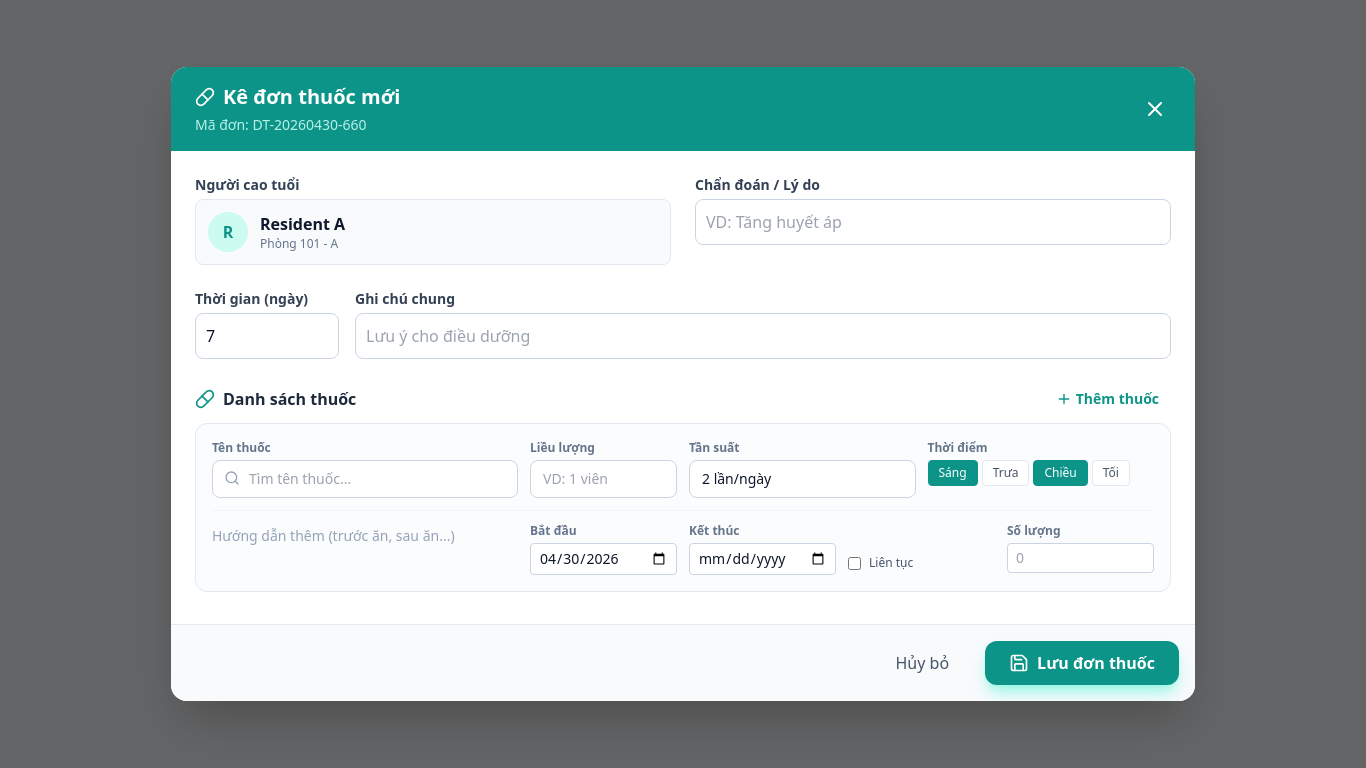
Test: PrescriptionForm › shows matched catalog suggestions while typing a partial medicine query
Type "Aerius" into the dropdown at (365, 479), box [212,460,518,498]
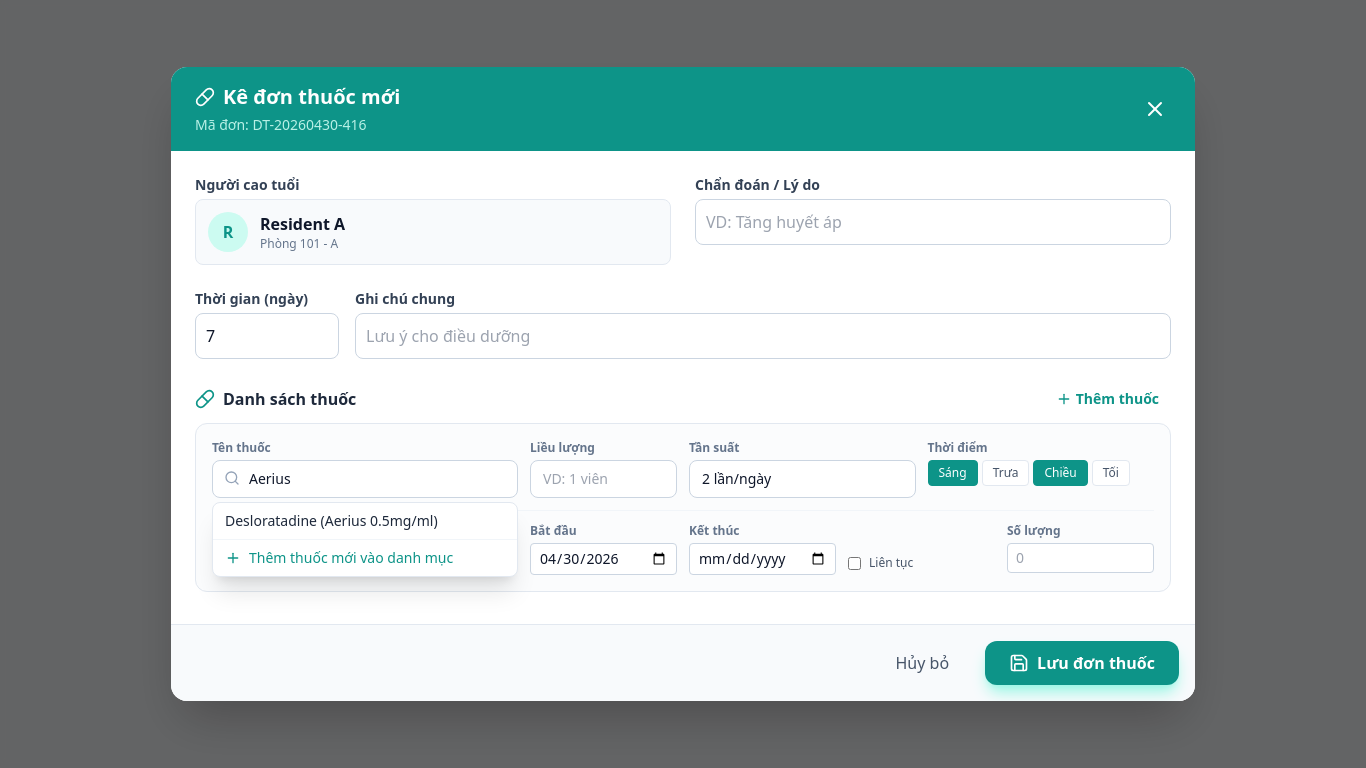
expect the list is shown: met, box [212,502,518,577]
expect the option "Desloratadine (Aerius 0.5mg/ml)" is shown: met, box [213,503,517,539]
